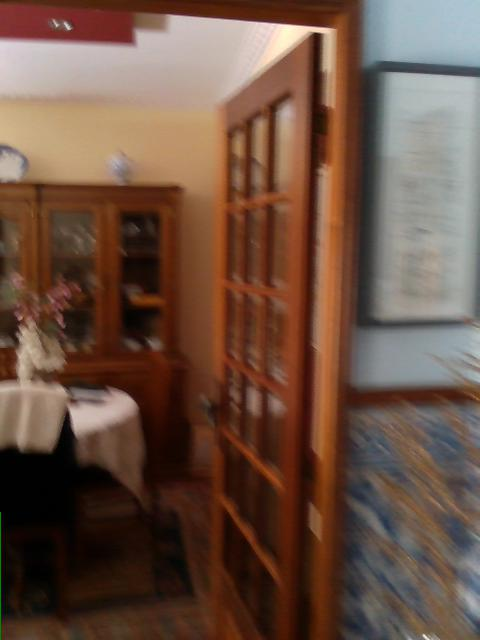door: (197, 31, 323, 640)
